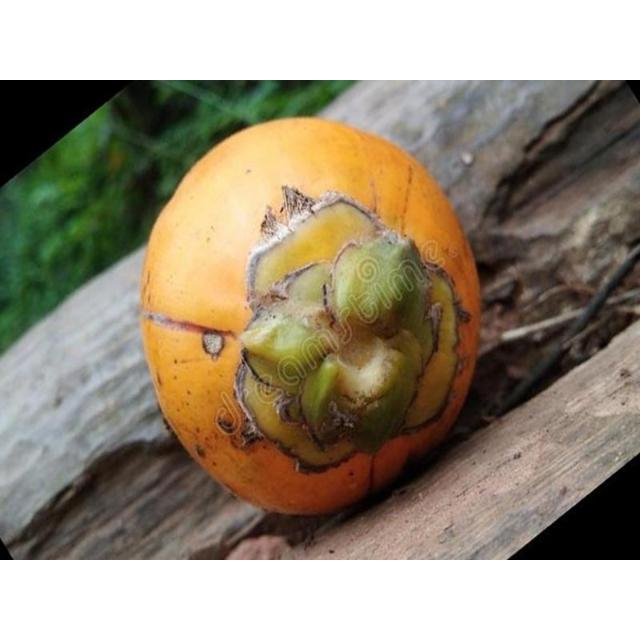good: (137, 118, 487, 522)
